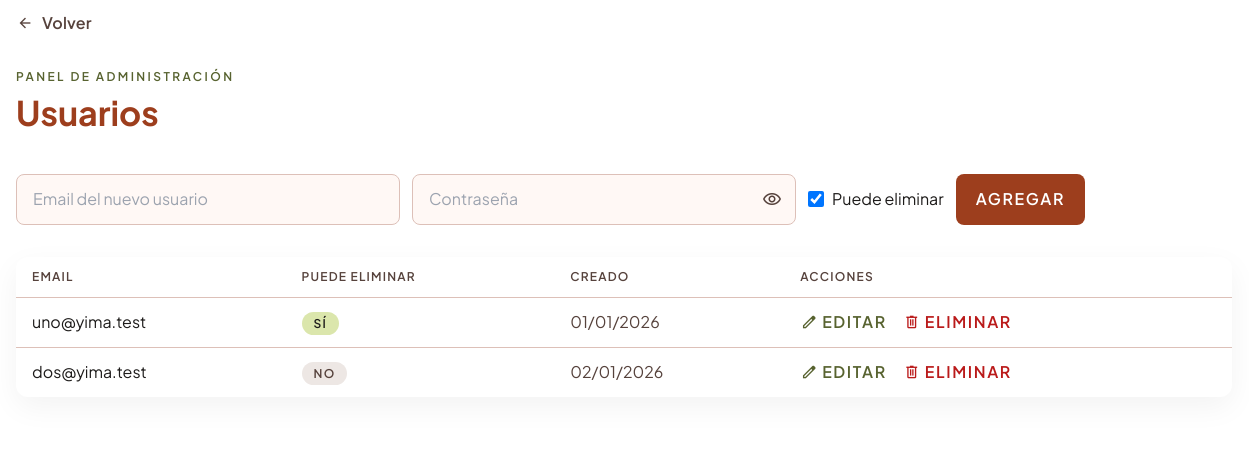
Scenario: AdminUsuarios — permiso de eliminar › muestra el mensaje del servidor cuando el borrado se rechaza por permiso
Expected: the text "dos@yima.test" is shown, [16, 347, 286, 397]
Click the button "Eliminar" in the row of "uno@yima.test" at (957, 322), box [903, 313, 1012, 331]
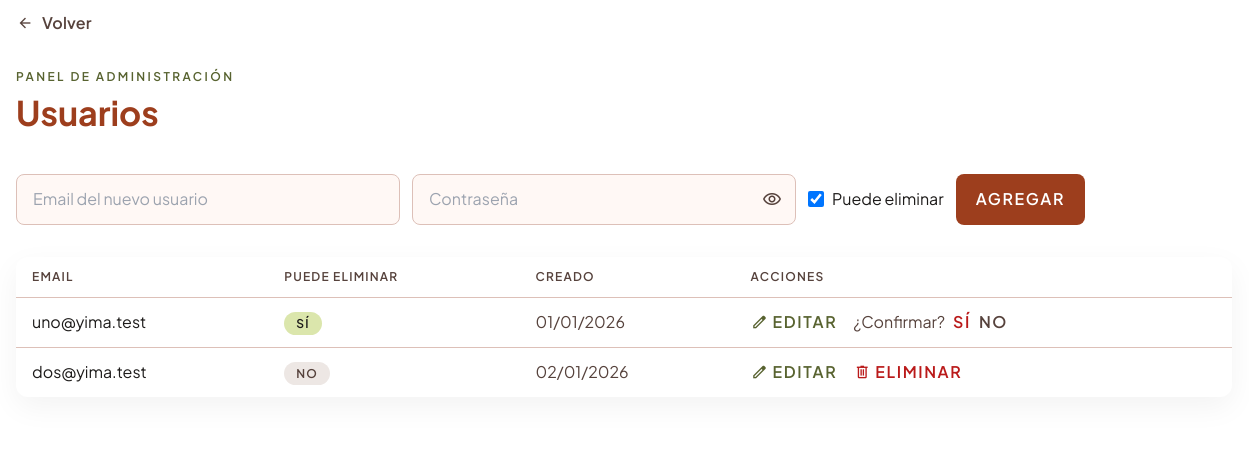
Click the button "Sí" at (962, 322), box [953, 314, 971, 330]
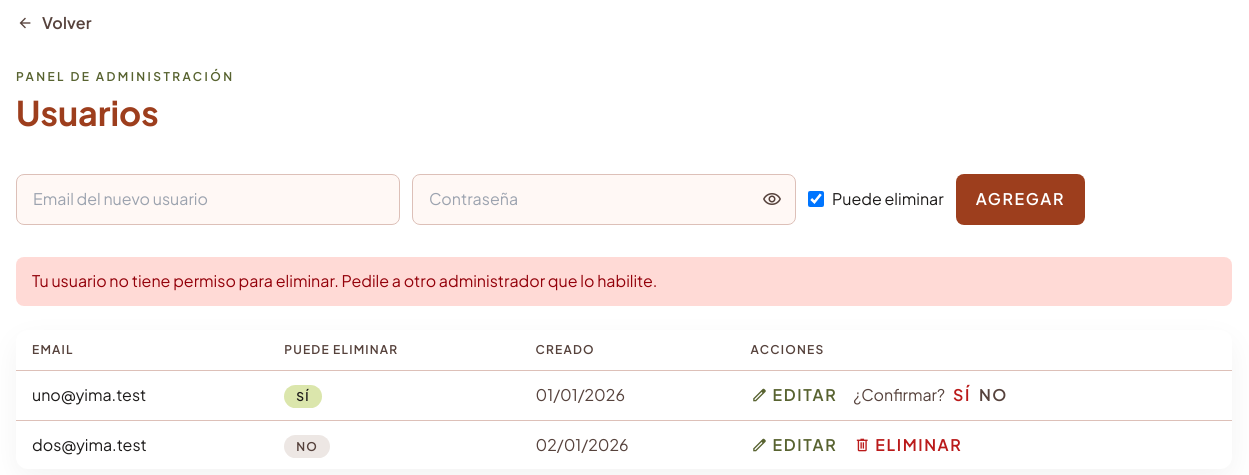
Now the text "no tiene permiso para eliminar" is shown, box [32, 270, 657, 291]
